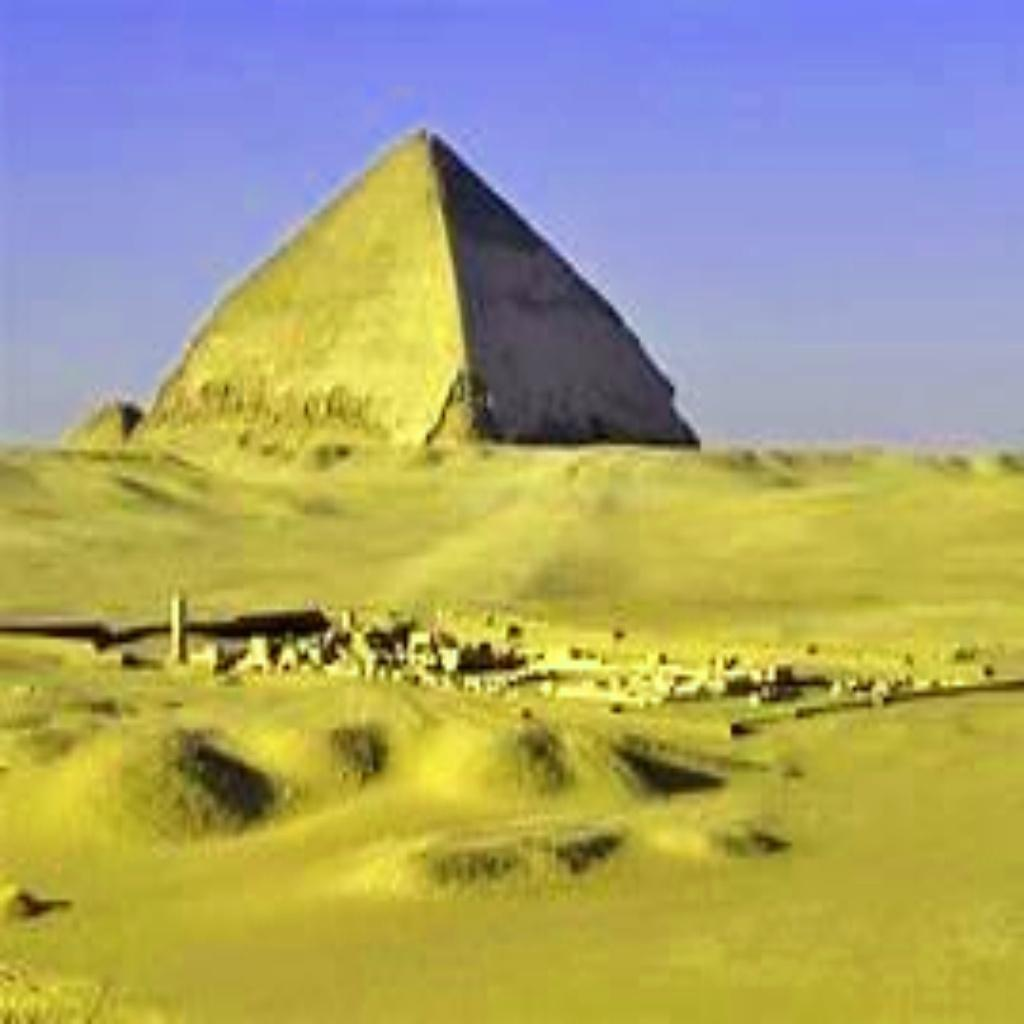Bent Pyramid of King Sneferu: (126, 118, 704, 461)
